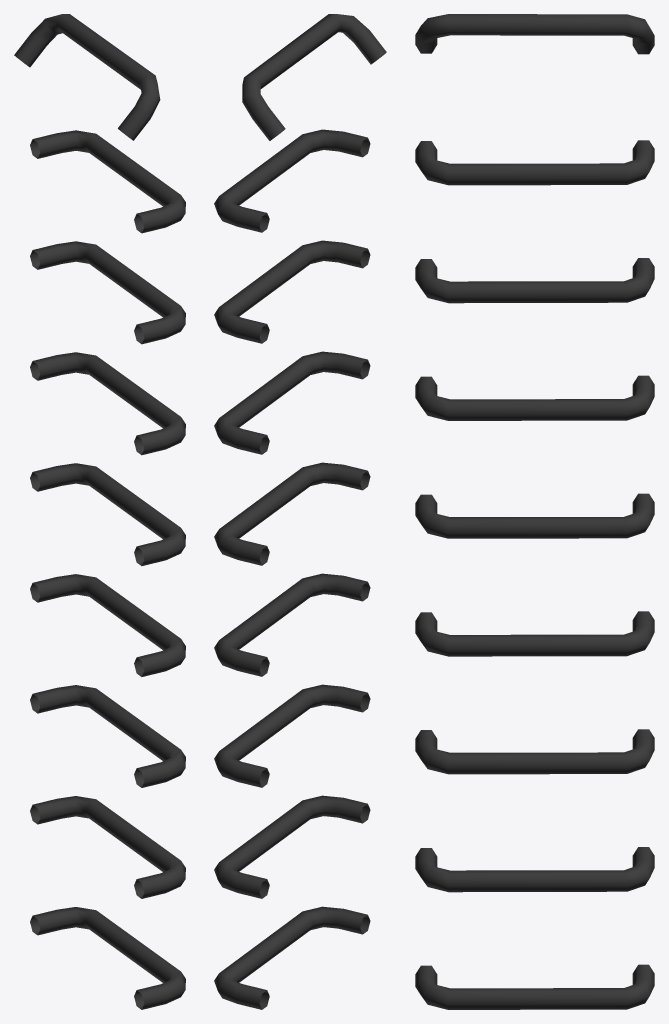
File: Building_Ladder.fbx
The picture shows the model from 3 angles, left to right: view 1: azimuth 30°, elevation 25°; view 2: azimuth 150°, elevation 25°; view 3: azimuth 270°, elevation 25°; orthographic projection. The views are drawn at different scales.
Visible parts, largest first — view 1: Building_Ladder; view 2: Building_Ladder; view 3: Building_Ladder.
Boxes of the visible parts, x1,y1,x2,y2 form: Building_Ladder: [14, 14, 185, 1009]; Building_Ladder: [214, 14, 386, 1009]; Building_Ladder: [415, 14, 654, 1009].
Size of the model in its own units: 26.16 by 299 by 66.23.
